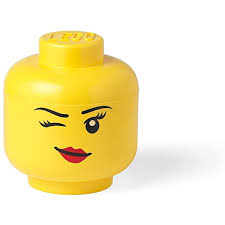Lego: (3, 23, 146, 199)
